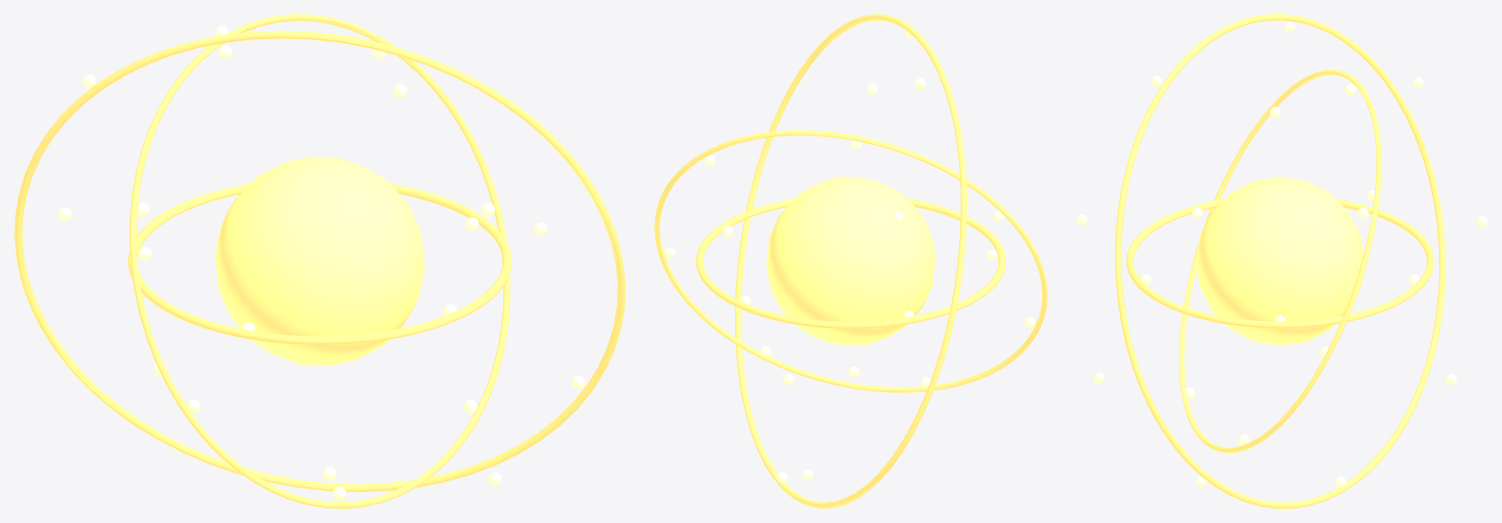
Rendered from AICore.glb.
3 renders of one model, left to right at view 1: azimuth 30°, elevation 25°; view 2: azimuth 150°, elevation 25°; view 3: azimuth 270°, elevation 25°, orthographic. The views are drawn at different scales.
Parts seen in each view (by area): view 1: AICore_InnerCore, AICore_Ring_3, AICore_Ring_2, AICore_Ring_1; view 2: AICore_InnerCore, AICore_Ring_3, AICore_Ring_2, AICore_Ring_1; view 3: AICore_InnerCore, AICore_Ring_3, AICore_Ring_2, AICore_Ring_1.
Boxes of the visible parts, x1=… form: AICore_InnerCore: x1=215, y1=157, x2=424, y2=365; AICore_Ring_3: x1=14, y1=30, x2=625, y2=492; AICore_Ring_2: x1=129, y1=14, x2=510, y2=508; AICore_Ring_1: x1=128, y1=183, x2=511, y2=344; AICore_InnerCore: x1=766, y1=177, x2=935, y2=345; AICore_Ring_3: x1=735, y1=14, x2=966, y2=508; AICore_Ring_2: x1=654, y1=130, x2=1047, y2=392; AICore_Ring_1: x1=696, y1=198, x2=1005, y2=328; AICore_InnerCore: x1=1195, y1=177, x2=1363, y2=345; AICore_Ring_3: x1=1115, y1=14, x2=1445, y2=508; AICore_Ring_2: x1=1179, y1=69, x2=1381, y2=453; AICore_Ring_1: x1=1126, y1=199, x2=1434, y2=328.
Size of the model in its own units: 0.8506 by 1.01 by 0.8759.
